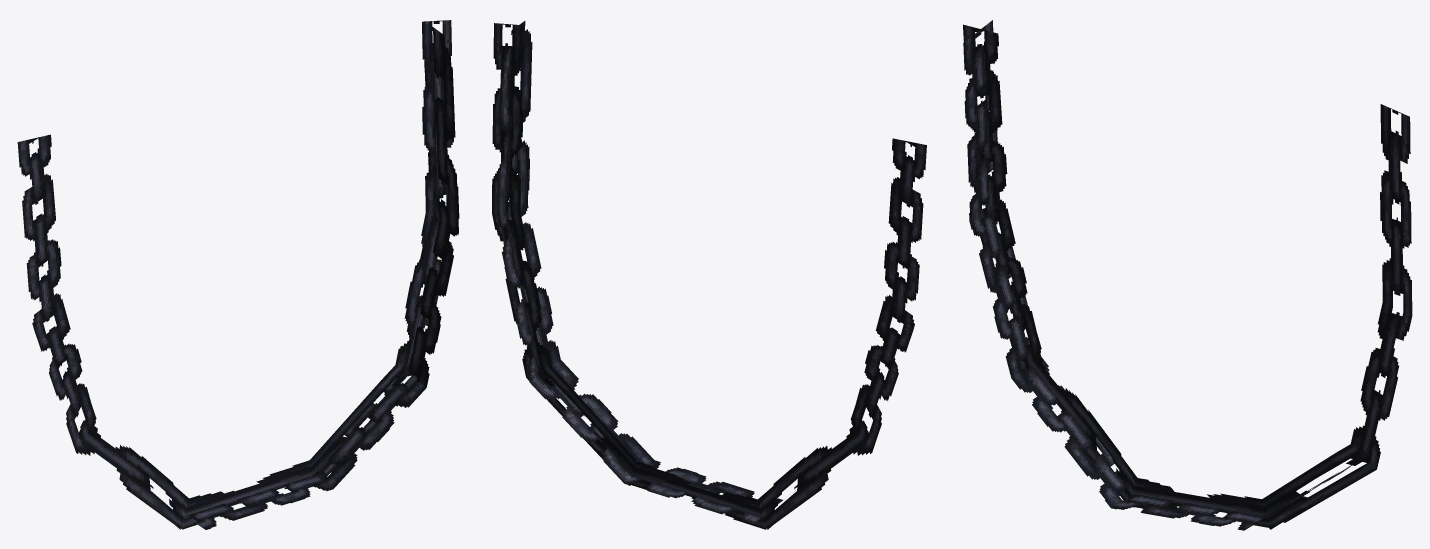
The model's file is 10504_IronRail20.FBX.
3 renders of one model, left to right at view 1: azimuth 30°, elevation 25°; view 2: azimuth 150°, elevation 25°; view 3: azimuth 330°, elevation 25°, orthographic. The views are drawn at different scales.
Parts seen in each view (by area): view 1: 10504_IronRail20; view 2: 10504_IronRail20; view 3: 10504_IronRail20.
Boxes of the visible parts, left/top/right/bottom form: 10504_IronRail20: left=17, top=20, right=459, bottom=529; 10504_IronRail20: left=492, top=21, right=926, bottom=529; 10504_IronRail20: left=963, top=20, right=1412, bottom=530.
Bounding box in the file's own units: 377 × 368 × 59.82.
